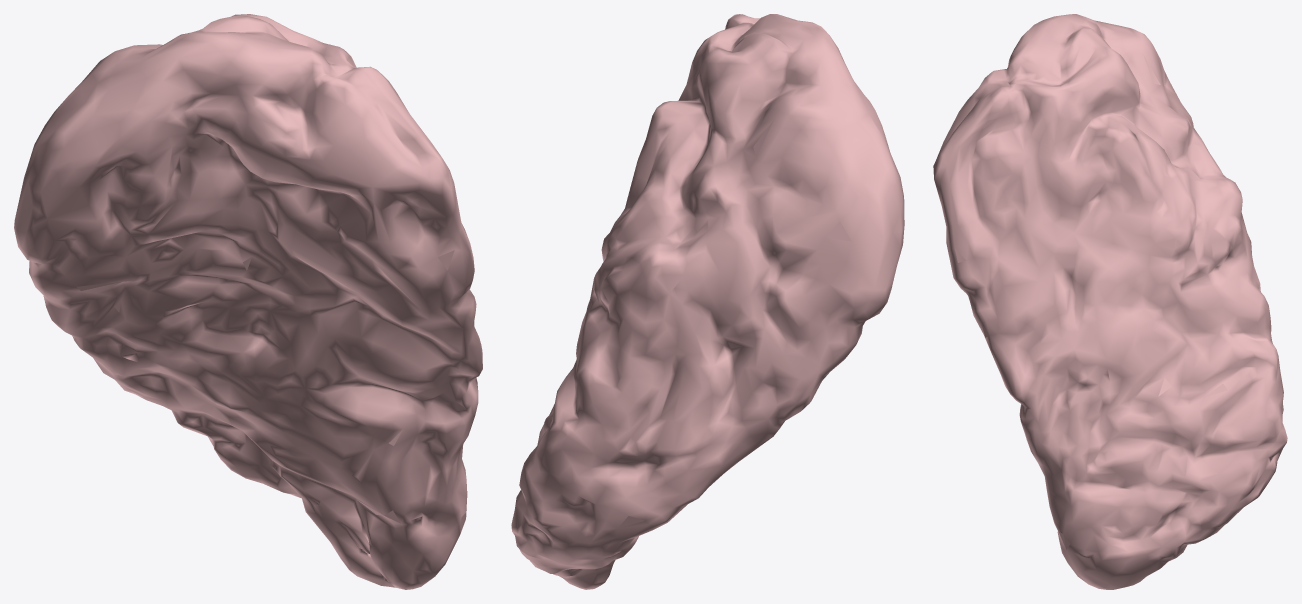
The model's file is 3d-vh-f-palatine-tonsil-l-40.glb.
3 views of the same model, side by side, from view 1: azimuth 30°, elevation 25°; view 2: azimuth 150°, elevation 25°; view 3: azimuth 270°, elevation 25° (orthographic). The views are drawn at different scales.
Visible parts, largest first — view 1: VH_F_palatine_tonsil_L; view 2: VH_F_palatine_tonsil_L; view 3: VH_F_palatine_tonsil_L.
Part boxes in pixels (<box>): VH_F_palatine_tonsil_L: <box>14,14,482,589</box>; VH_F_palatine_tonsil_L: <box>511,14,904,589</box>; VH_F_palatine_tonsil_L: <box>933,14,1287,589</box>.
Bounding box in the file's own units: 0.0164 × 0.0243 × 0.0159.
